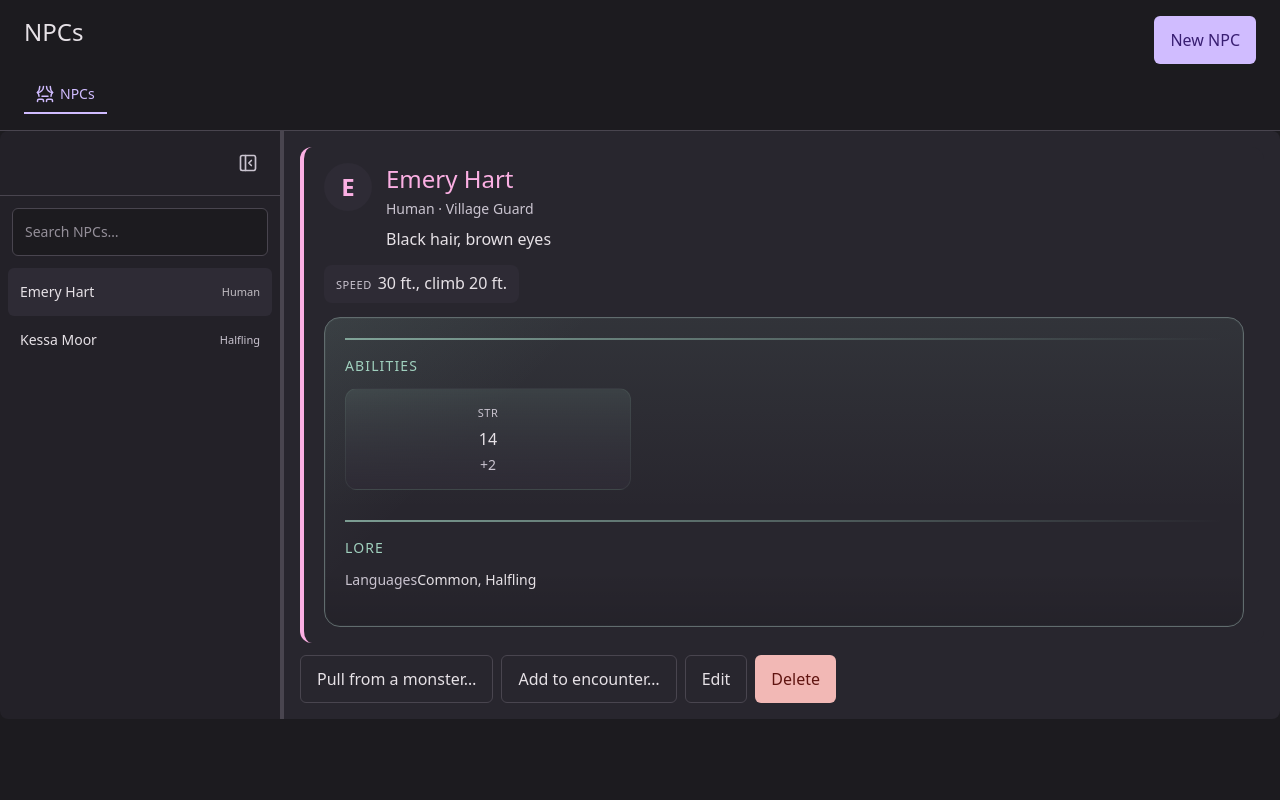
Scenario: NPCBrowserPage › filtering to no matches shows filtered-empty state
This screenshot has width=1280, height=800.
Expected: the heading "Emery Hart" is shown, x1=386 y1=162 x2=514 y2=195
Type "zzz-no-match" into the search field at (140, 232), box x1=12 y1=208 x2=268 y2=256
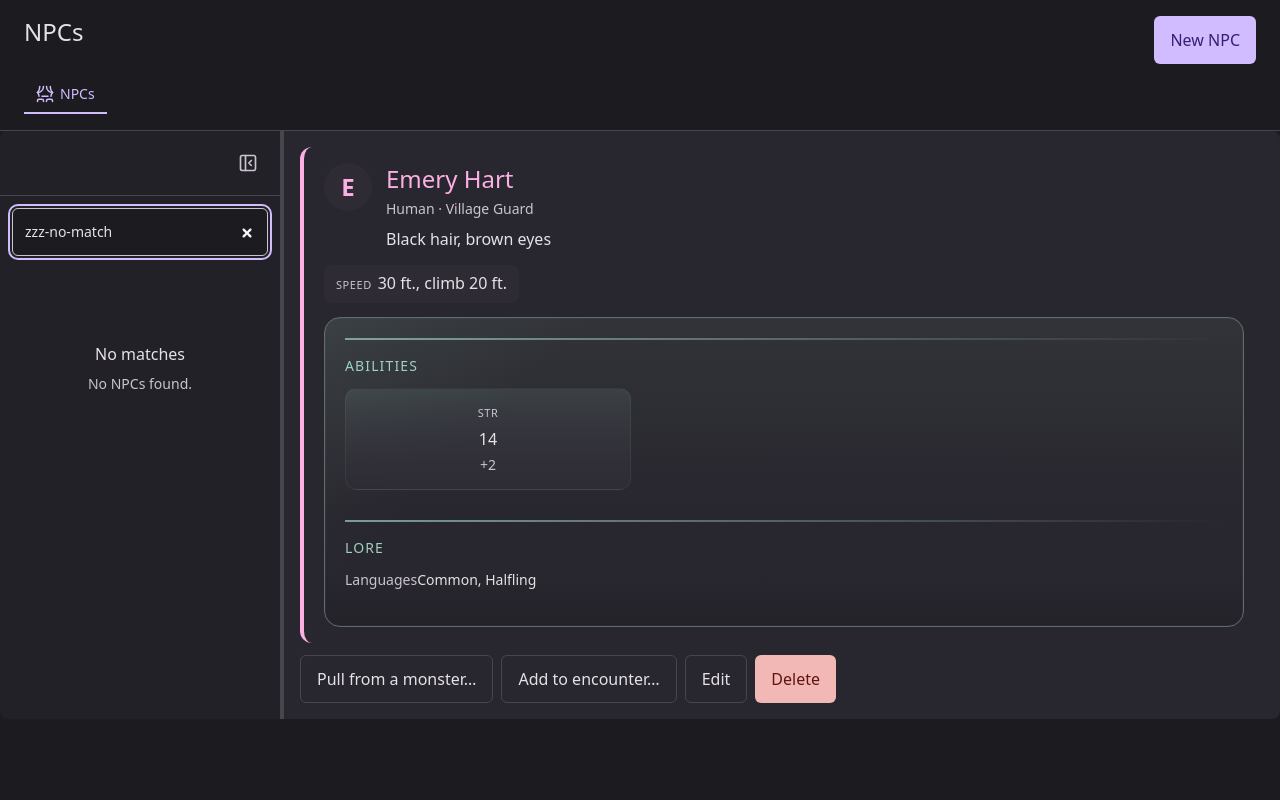
Now the text "No NPCs found." is shown, box x1=88 y1=374 x2=192 y2=394
